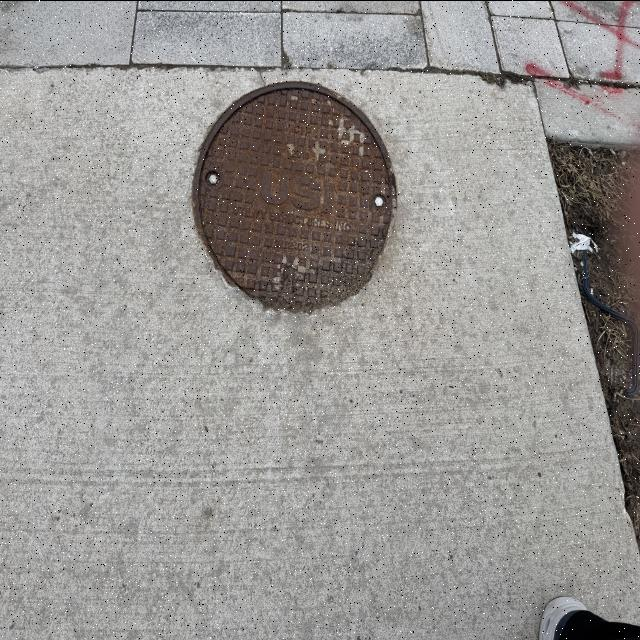Manhole: (183, 76, 405, 324)
